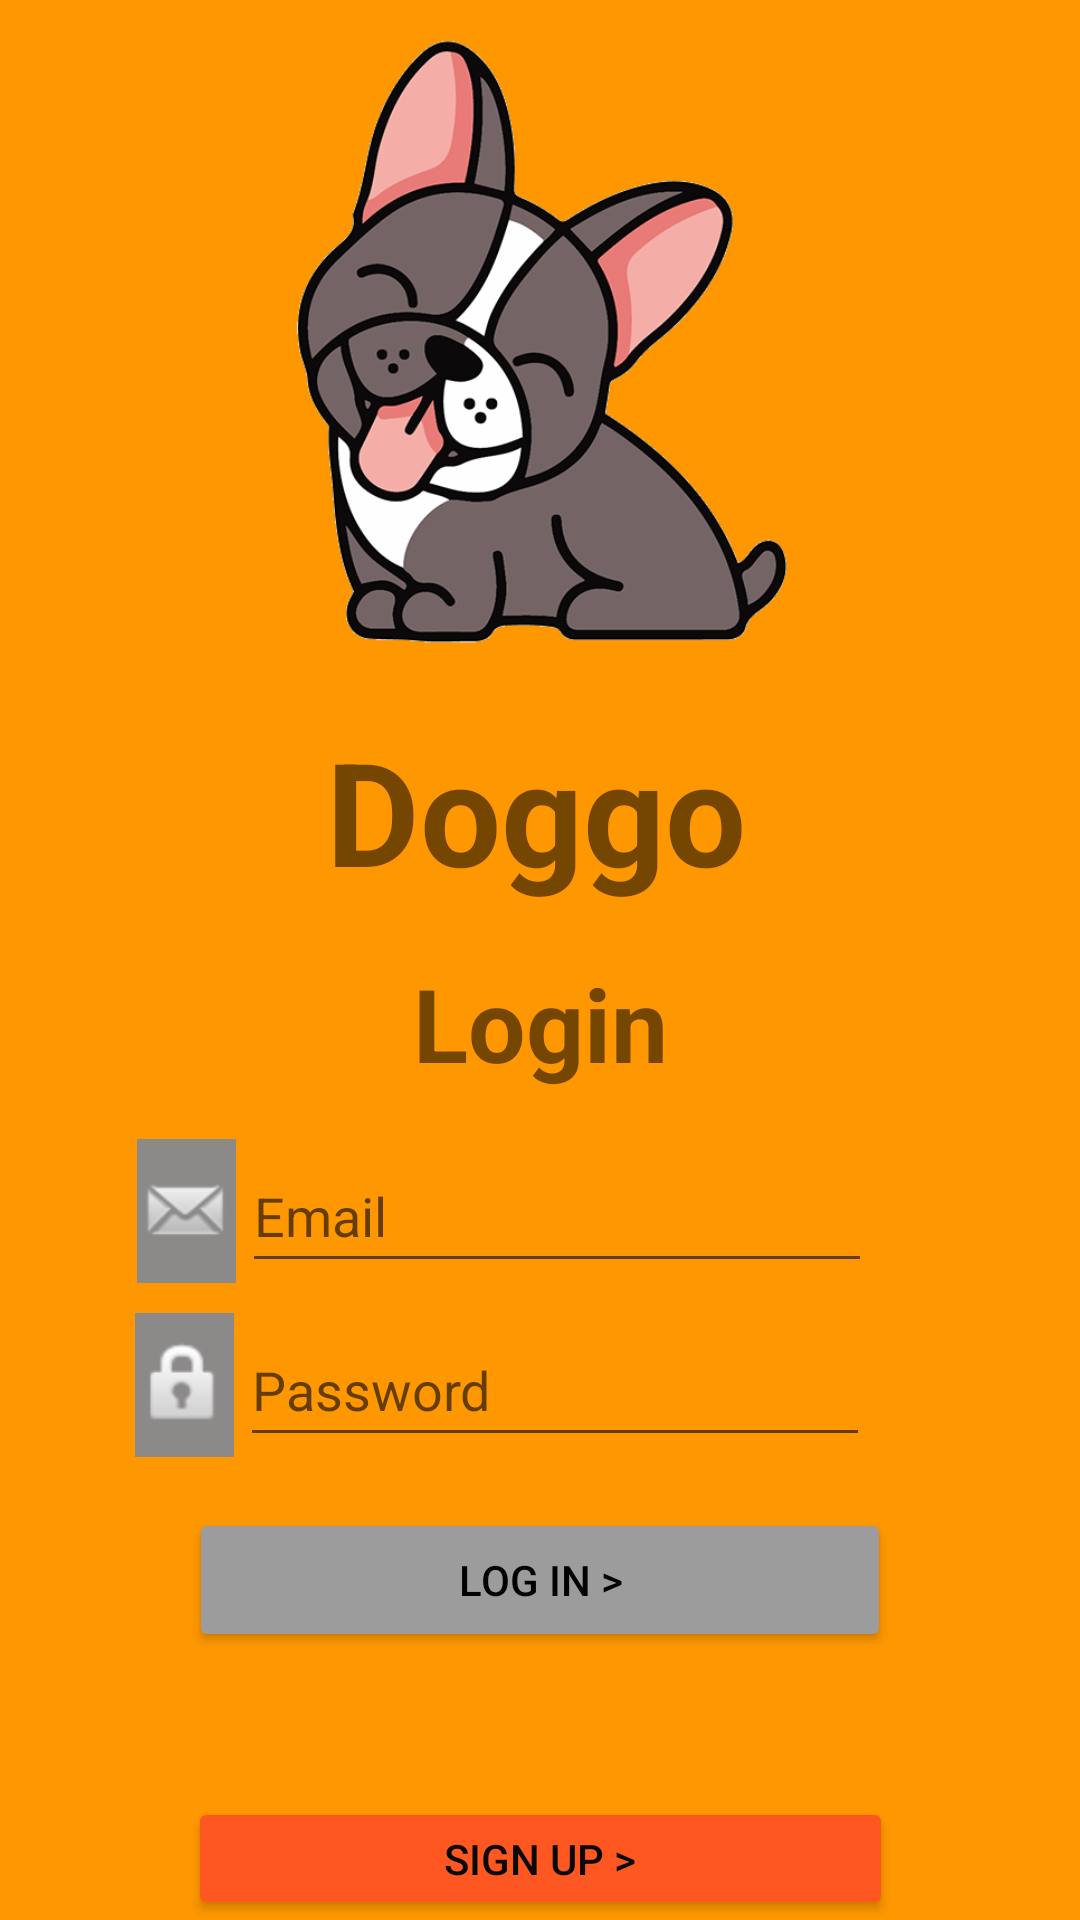

Icon bounding boxes for this 1080 × 1920 phone screenshot, format BBox(x1, y1, x2, y2):
lock idle: BBox(135, 1313, 234, 1457)
